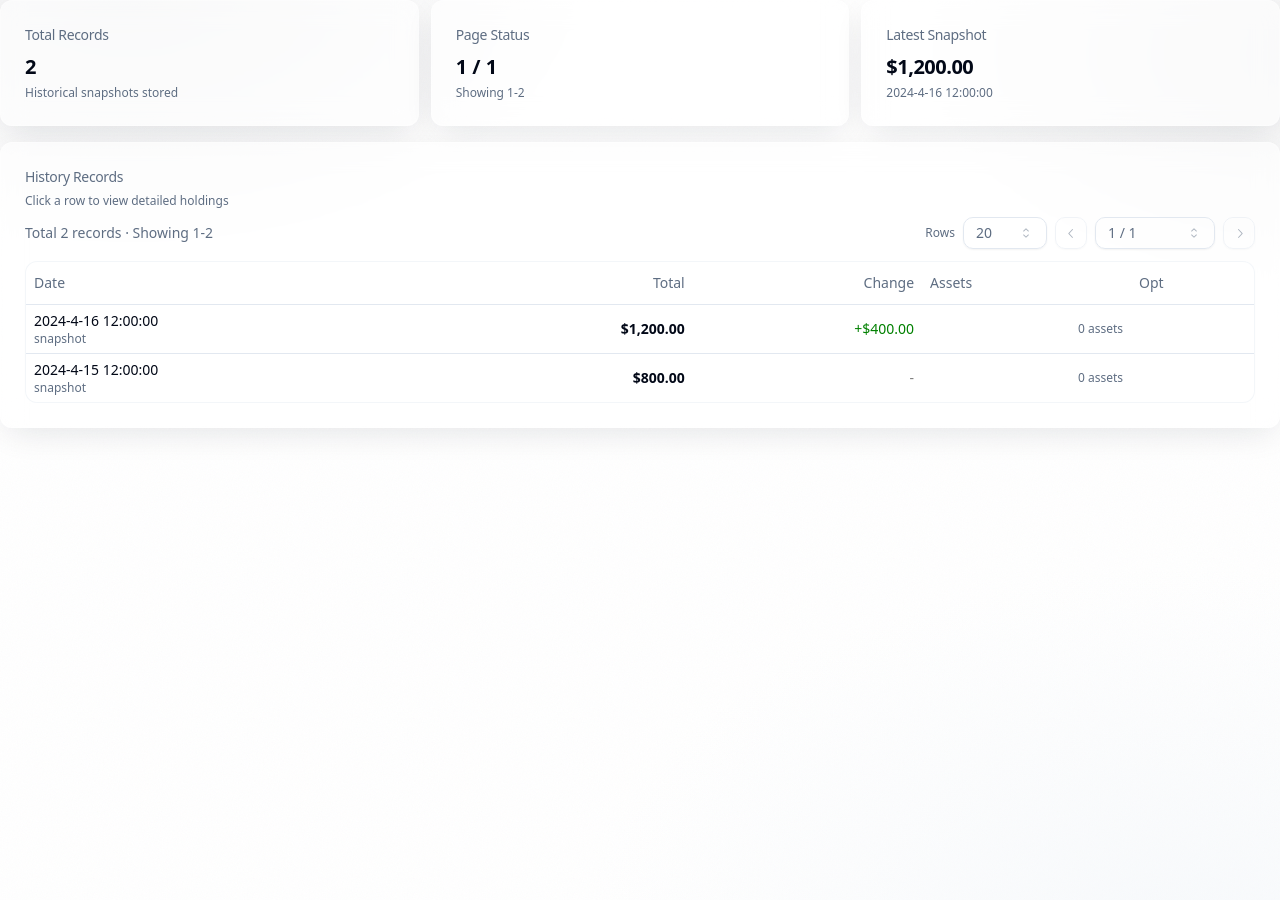
Test: Historical-data — delete does not flash loading overlay › closes the detail dialog when an external refresh removes its snapshot
Click the text "snapshot" in the row of "800.00" at (60, 387), box 34,378 -> 86,396
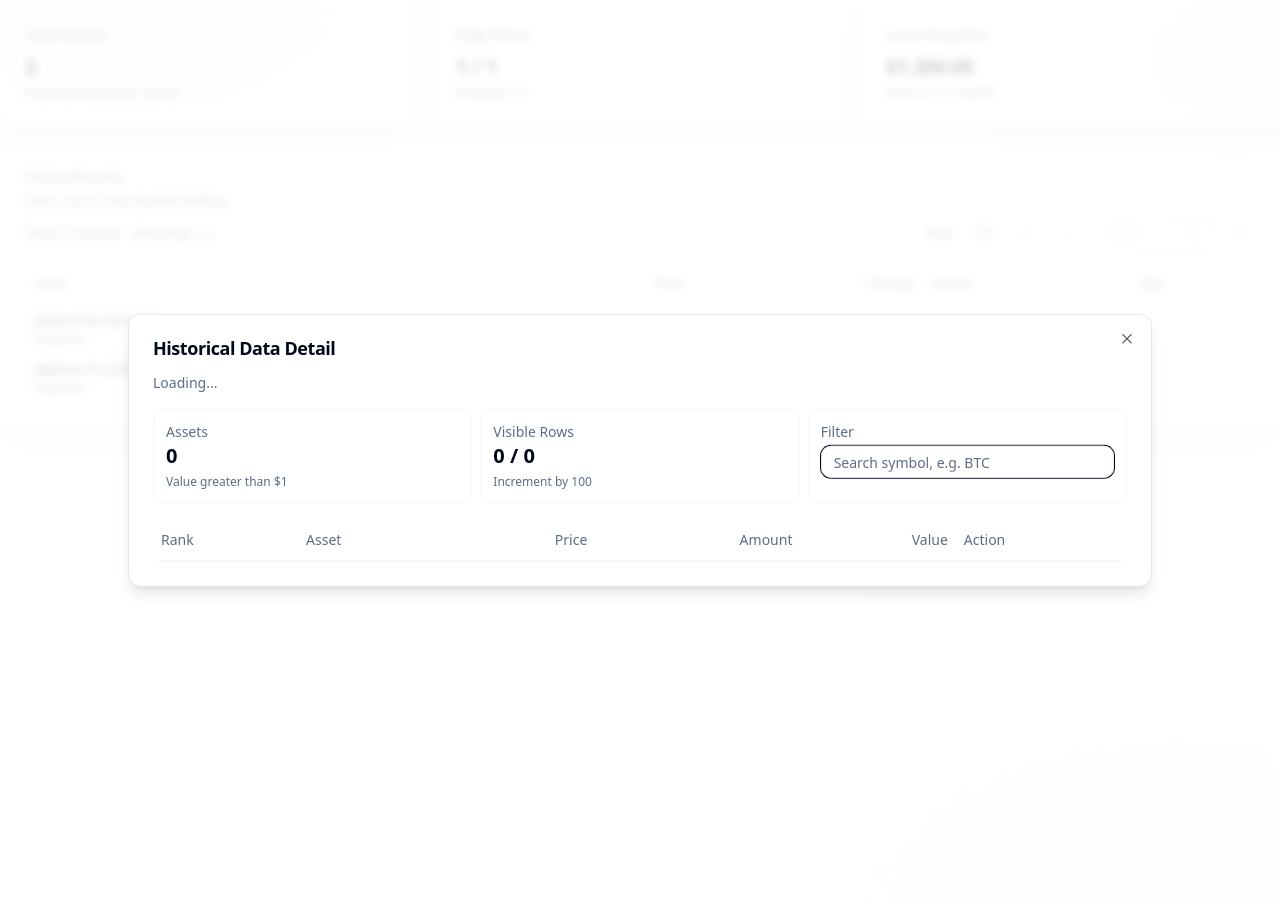
Result: the dialog "Historical Data Detail" is shown at 128,314 -> 1152,586
